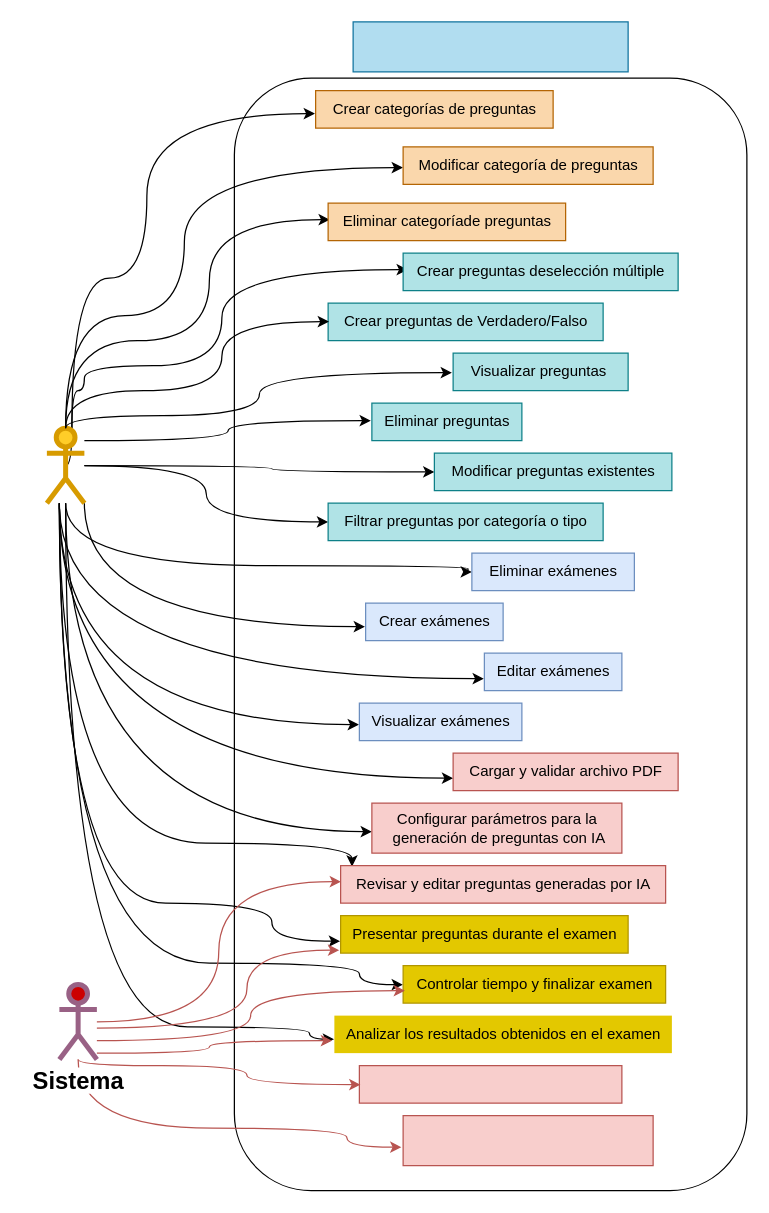
The diagram is 769 pixels wide and 1213 high, and some of its shapes have lost their labels. Here are the shapes that lost their labels. From the top down, the centre of each, then its label:
At [490,46]: "Diagrama Caso de Uso".
At [65,465]: "Usuario".
At [490,1083]: "Extraer texto desde un archivo PDF".
At [527,1140]: "Enviar datos a la API de Gemini Flash para generar preguntas".
